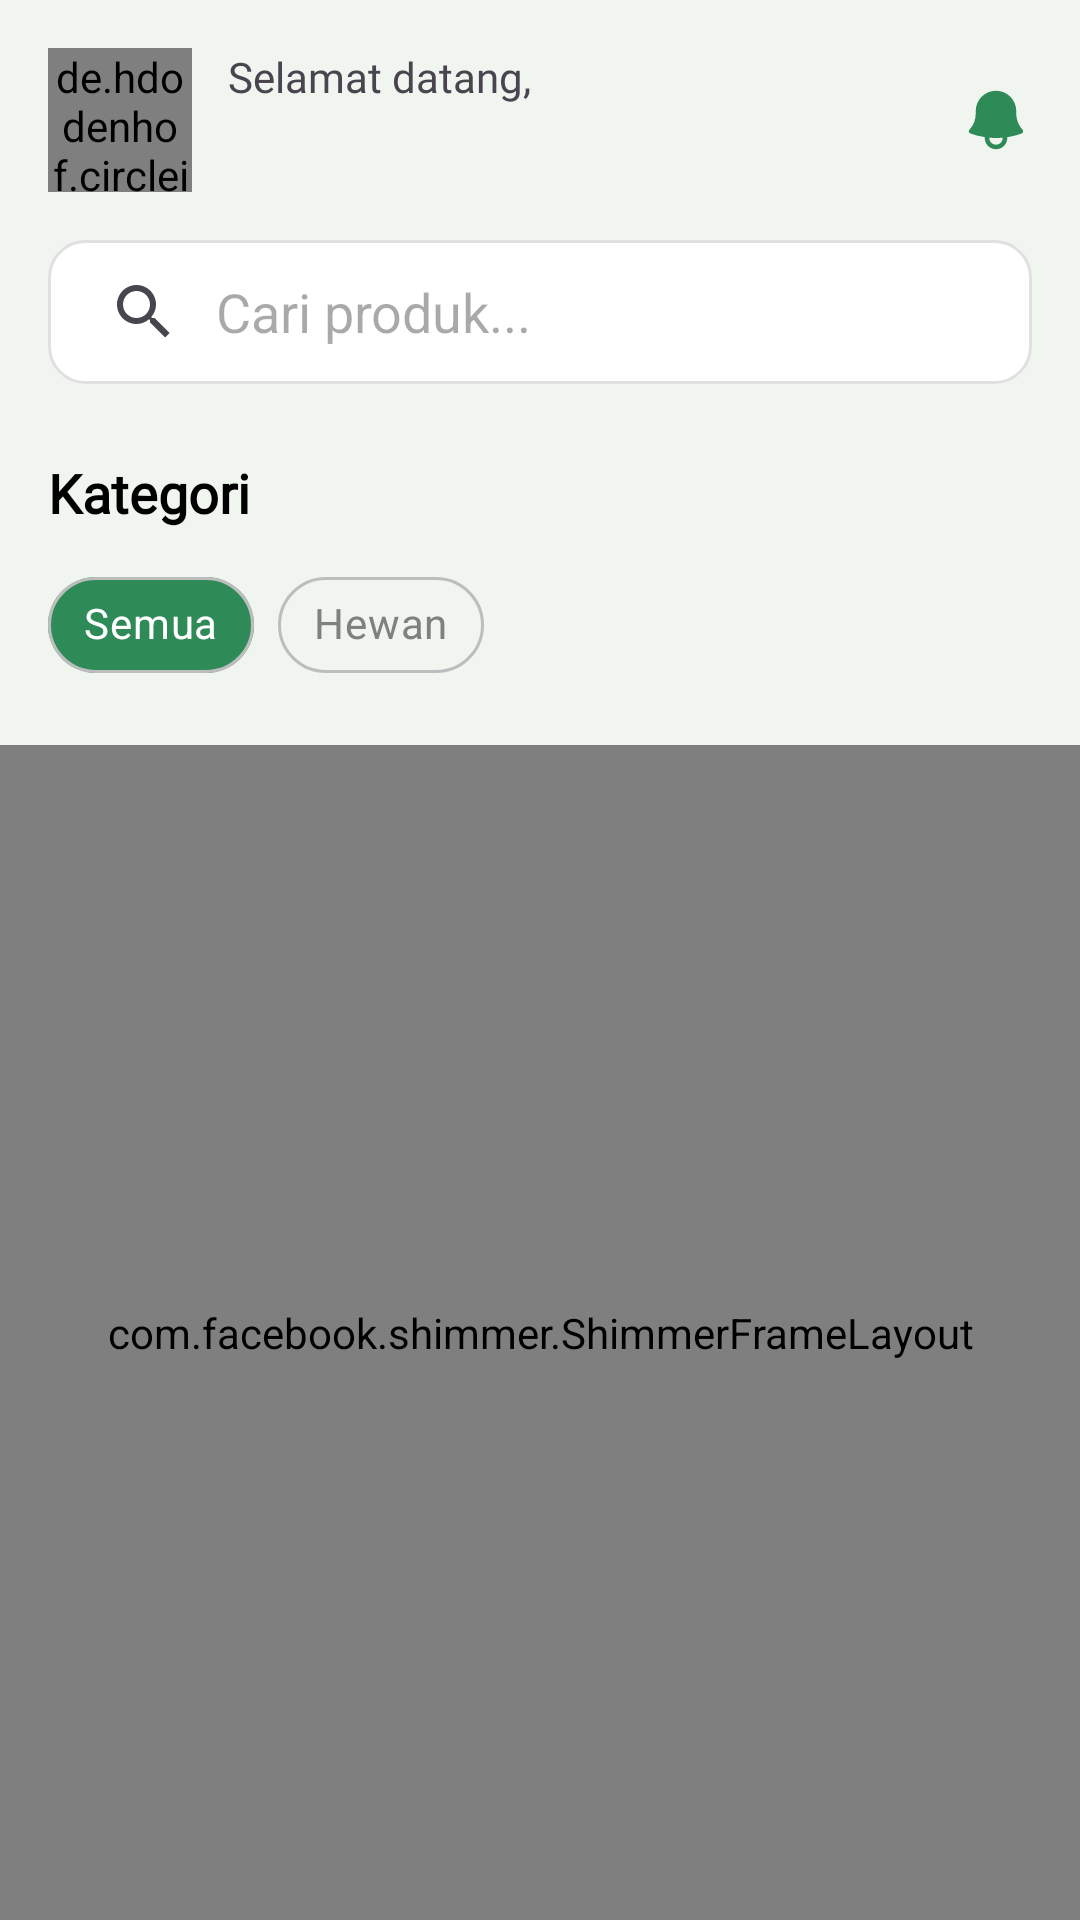

Icons on this 1080*1920 Android screen, each with its box as rect(x1, y1, x2, y2):
notifications: rect(968, 90, 1023, 150)
